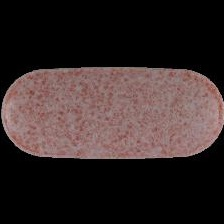43547-353: (0, 0, 224, 224)
